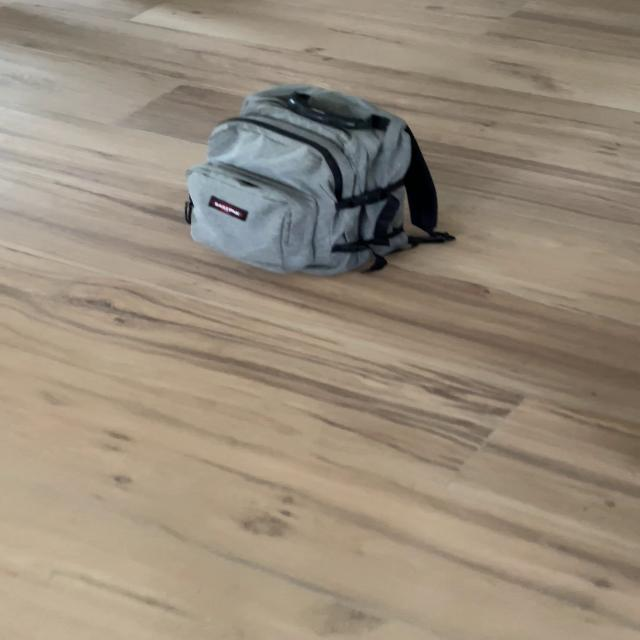backpack: (170, 78, 453, 281)
